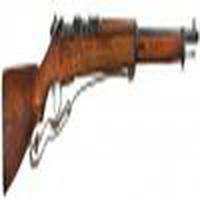gun: (1, 20, 199, 184)
